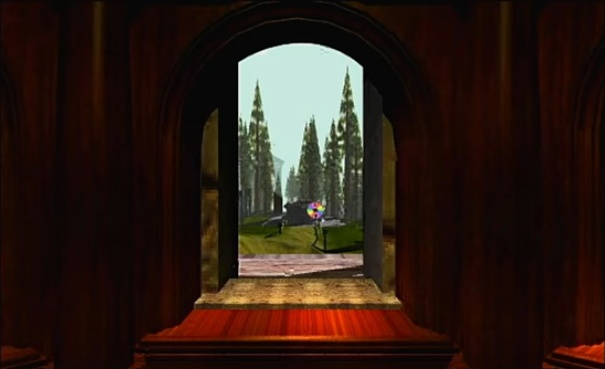Waiting: (304, 198, 328, 220)
